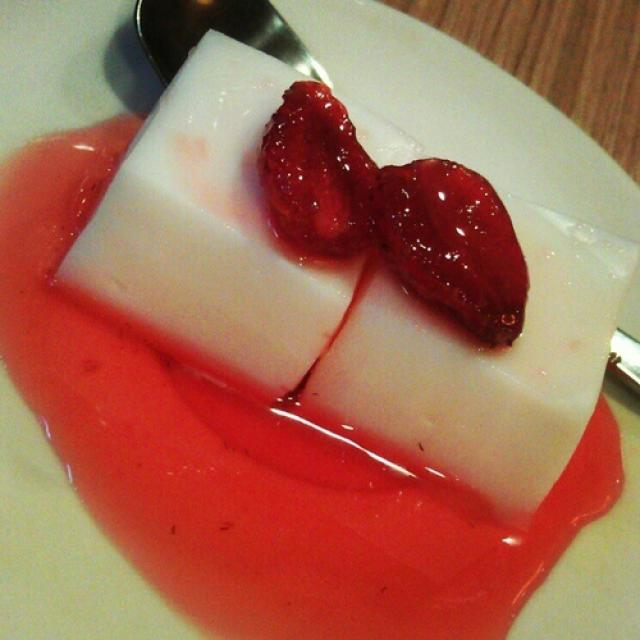蛋糕甜品: (32, 18, 627, 570)
